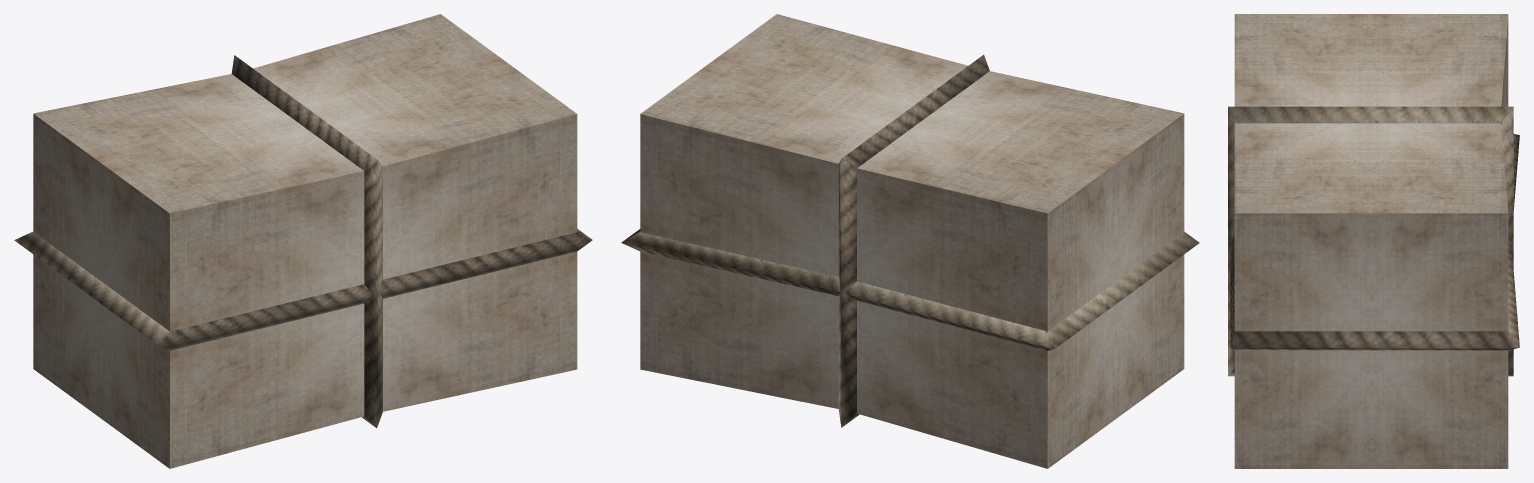
The model's file is Package_Type_01_A.fbx.
3 renders of one model, left to right at view 1: azimuth 30°, elevation 25°; view 2: azimuth 150°, elevation 25°; view 3: azimuth 270°, elevation 25°, orthographic.
Parts seen in each view (by area): view 1: Package_Type_01_A; view 2: Package_Type_01_A; view 3: Package_Type_01_A.
Part boxes in pixels (bbox=[...]): Package_Type_01_A: bbox=[14, 14, 592, 468]; Package_Type_01_A: bbox=[621, 14, 1199, 468]; Package_Type_01_A: bbox=[1228, 14, 1519, 468].
Bounding box in the file's own units: 1.11 × 0.6549 × 0.6425.
